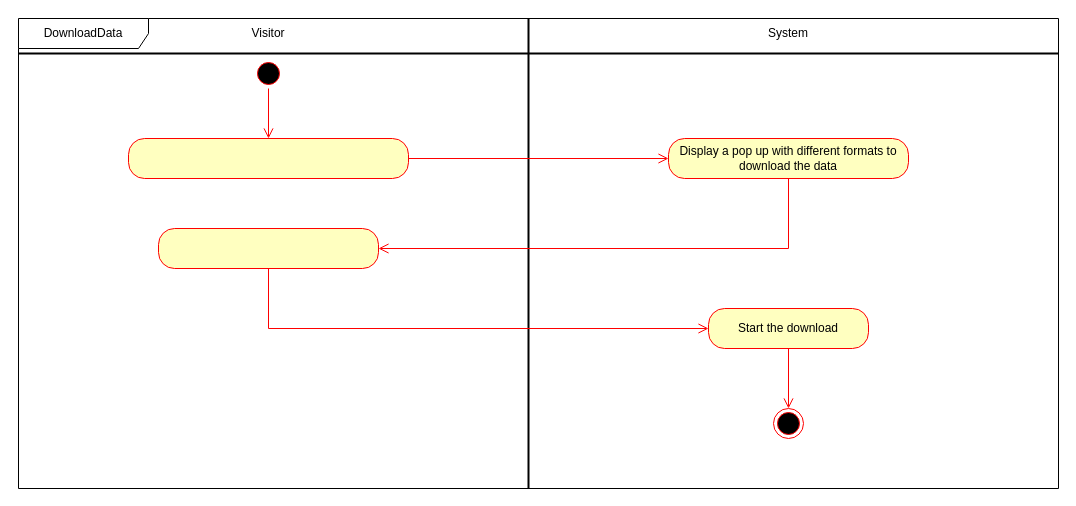
This 1076x506 diagram has some shape labels left out. Each missing label, with the centre of its shape:
Select the "Download" button on a data set: (x=268, y=158)
Select the type of format needed and click on "Download": (x=268, y=248)
